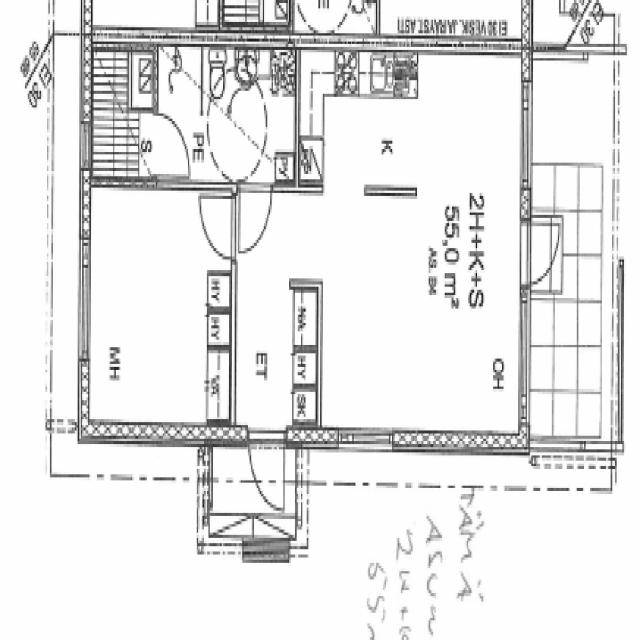door: (247, 429, 288, 517), (150, 108, 192, 180), (235, 178, 273, 256), (523, 214, 559, 292), (198, 187, 235, 261), (322, 0, 356, 37)
window: (75, 236, 95, 364), (516, 76, 537, 196), (516, 294, 532, 407), (337, 424, 393, 455), (79, 108, 92, 171)
zone: (82, 185, 233, 438), (195, 46, 297, 184)
